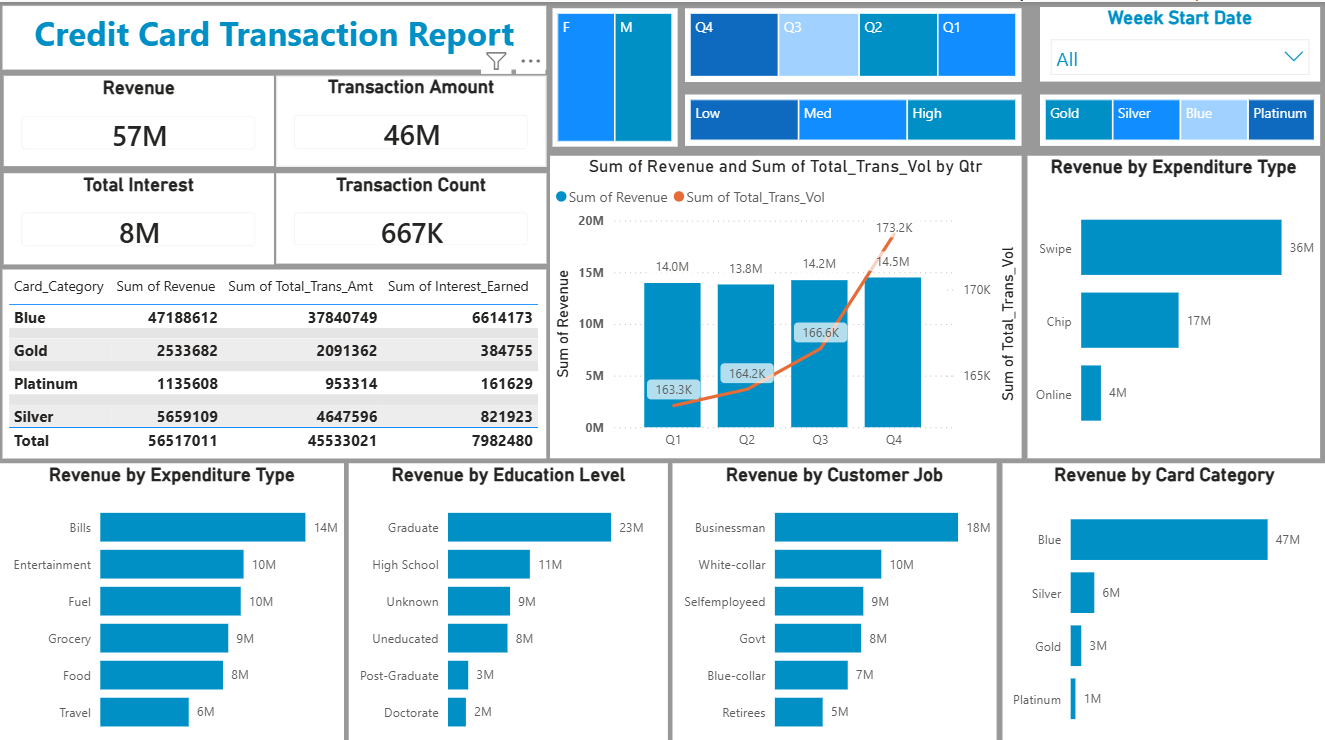

What the dashboard file says about the page in this screenshot:
{"tool":"powerbi","page":{"name":"CC Transaction","canvas":[1280,720],"ordinal":0},"visuals":[{"type":"textbox","box":[2.4,3.6,524.8,61.5],"z":0},{"type":"lineStackedColumnComboChart","fields":{"Category":["credit_card.Qtr"],"Y":["Sum(credit_card.Revenue)"],"Y2":["Sum(credit_card.Total_Trans_Vol)"]},"box":[530.8,148.4,454.8,292],"z":1000},{"type":"barChart","title":"Revenue by Expenditure Type","fields":{"Y":["Sum(credit_card.Revenue)"],"Category":["credit_card.Exp Type"]},"box":[0,445.4,331.9,274.3],"z":2000},{"type":"barChart","title":"Revenue by Education Level","fields":{"Y":["Sum(credit_card.Revenue)"],"Category":["customer.Education_Level"]},"box":[336.3,445.4,308.3,274.3],"z":3000},{"type":"barChart","title":"Revenue by Customer Job","fields":{"Y":["Sum(credit_card.Revenue)"],"Category":["customer.Customer_Job"]},"box":[649,445.4,312.7,274.3],"z":4000},{"type":"barChart","title":"Revenue by Card Category","fields":{"Y":["Sum(credit_card.Revenue)"],"Category":["credit_card.Card_Category"]},"box":[967.6,445.4,312.7,274.3],"z":5000},{"type":"barChart","title":"Revenue by Expenditure Type","fields":{"Y":["Sum(credit_card.Revenue)"],"Category":["credit_card.Use Chip"]},"box":[991.7,148.4,282.3,292],"z":6000},{"type":"tableEx","fields":{"Values":["credit_card.Card_Category","Sum(credit_card.Revenue)","Sum(credit_card.Total_Trans_Amt)","Sum(credit_card.Interest_Earned)"]},"box":[2.4,258.2,524.8,182.2],"z":7000},{"type":"cardVisual","title":"Revenue","fields":{"Data":["Sum(credit_card.Revenue)"]},"box":[3.6,71.2,260.6,86.9],"z":8000},{"type":"cardVisual","title":"Total Interest","fields":{"Data":["Sum(credit_card.Interest_Earned)"]},"box":[3.6,165.3,260.6,88.1],"z":9000},{"type":"cardVisual","title":"Transaction Amount","fields":{"Data":["Sum(credit_card.Total_Trans_Amt)"]},"box":[266.6,71.2,260.6,88.1],"z":10000},{"type":"cardVisual","title":"Transaction Count","fields":{"Data":["Sum(credit_card.Total_Trans_Vol)"]},"box":[266.6,165.3,260.6,86.9],"z":11000},{"type":"slicer","title":"Weeek Start Date","fields":{"Values":["credit_card.Week_Start_Date"]},"box":[1003.8,4.8,270.2,72.4],"z":12000},{"type":"treemap","fields":{"Group":["credit_card.Qtr"],"Values":["Avg(credit_card.Client_Num)"]},"box":[661.1,6,324.5,71.2],"z":13000},{"type":"treemap","fields":{"Group":["customer.Gender"],"Values":["Avg(credit_card.Client_Num)"]},"box":[533.2,6,120.6,133.9],"z":14000},{"type":"treemap","fields":{"Group":["credit_card.Card_Category"],"Values":["Avg(credit_card.Client_Num)"]},"box":[1003.8,89.3,270.2,49.5],"z":15000},{"type":"treemap","fields":{"Group":["customer.IncomeGroup"],"Values":["Avg(credit_card.Client_Num)"]},"box":[661.1,89.3,324.5,49.5],"z":16000}]}

Visuals, with their boxes in screenshot pixels (x1, y1, x2, y2), scaled from the page's 1280x720 canvas onto the 1325x740 screenshot:
textbox: {"x1": 2, "y1": 4, "x2": 546, "y2": 67}
lineStackedColumnComboChart - credit_card.Qtr x Sum(credit_card.Revenue): {"x1": 549, "y1": 153, "x2": 1020, "y2": 453}
"Revenue by Expenditure Type" barChart: {"x1": 0, "y1": 458, "x2": 344, "y2": 739}
"Revenue by Education Level" barChart: {"x1": 348, "y1": 458, "x2": 667, "y2": 739}
"Revenue by Customer Job" barChart: {"x1": 672, "y1": 458, "x2": 996, "y2": 739}
"Revenue by Card Category" barChart: {"x1": 1002, "y1": 458, "x2": 1324, "y2": 739}
"Revenue by Expenditure Type" barChart: {"x1": 1027, "y1": 153, "x2": 1319, "y2": 453}
tableEx - credit_card.Card_Category x Sum(credit_card.Revenue): {"x1": 2, "y1": 265, "x2": 546, "y2": 453}
"Revenue" cardVisual: {"x1": 4, "y1": 73, "x2": 273, "y2": 162}
"Total Interest" cardVisual: {"x1": 4, "y1": 170, "x2": 273, "y2": 260}
"Transaction Amount" cardVisual: {"x1": 276, "y1": 73, "x2": 546, "y2": 164}
"Transaction Count" cardVisual: {"x1": 276, "y1": 170, "x2": 546, "y2": 259}
"Weeek Start Date" slicer: {"x1": 1039, "y1": 5, "x2": 1319, "y2": 79}
treemap - credit_card.Qtr x Avg(credit_card.Client_Num): {"x1": 684, "y1": 6, "x2": 1020, "y2": 79}
treemap - customer.Gender x Avg(credit_card.Client_Num): {"x1": 552, "y1": 6, "x2": 677, "y2": 144}
treemap - credit_card.Card_Category x Avg(credit_card.Client_Num): {"x1": 1039, "y1": 92, "x2": 1319, "y2": 143}
treemap - customer.IncomeGroup x Avg(credit_card.Client_Num): {"x1": 684, "y1": 92, "x2": 1020, "y2": 143}
